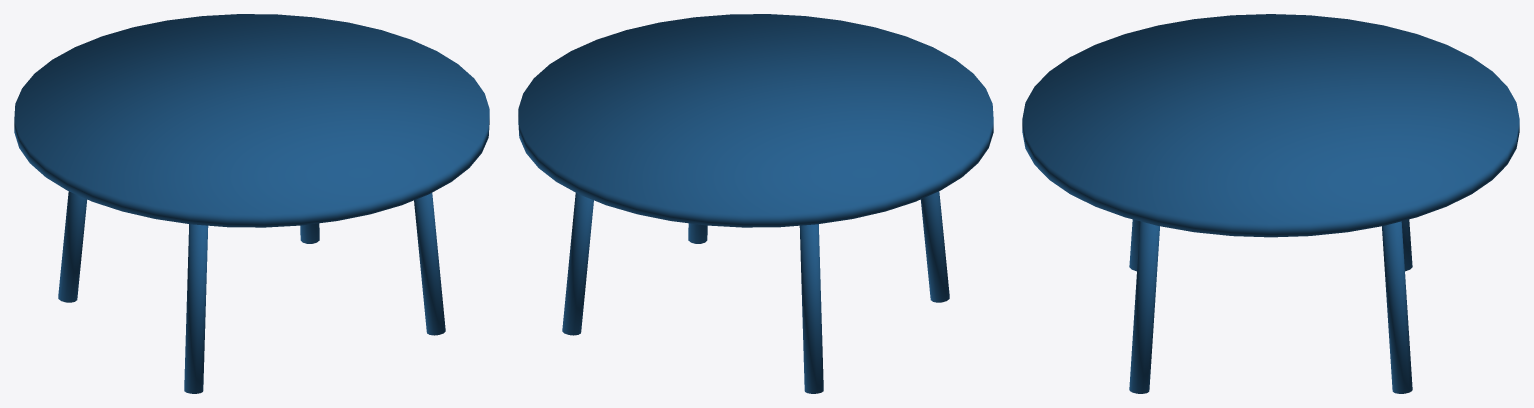
The model's file is CP10c-table.glb.
3 renders of one model, left to right at view 1: azimuth 30°, elevation 25°; view 2: azimuth 150°, elevation 25°; view 3: azimuth 270°, elevation 25°, orthographic. The views are drawn at different scales.
Visible parts, largest first — view 1: CP10c-table; view 2: CP10c-table; view 3: CP10c-table.
Boxes of the visible parts, x1,y1,x2,y2 form: CP10c-table: (14, 14, 489, 393); CP10c-table: (518, 14, 993, 393); CP10c-table: (1022, 14, 1519, 393).
Bounding box in the file's own units: 1.7 × 0.7932 × 1.7.
